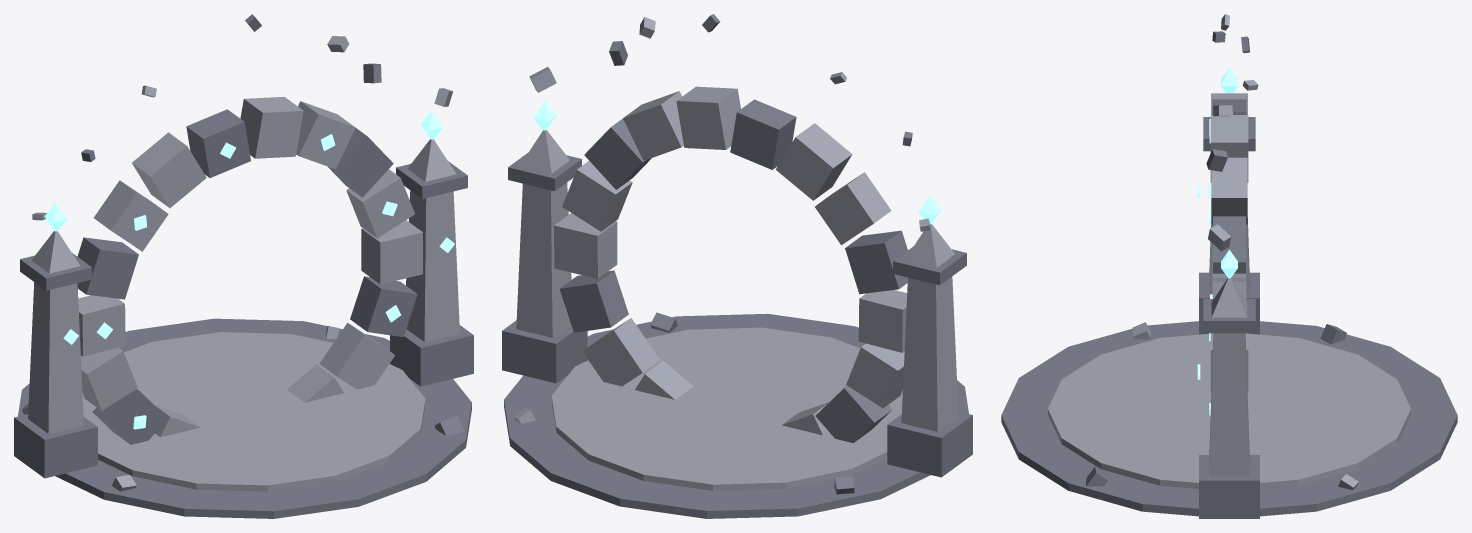
The model's file is portal_gate.glb.
3 views of the same model, side by side, from view 1: azimuth 30°, elevation 25°; view 2: azimuth 150°, elevation 25°; view 3: azimuth 270°, elevation 25° (orthographic). The views are drawn at different scales.
Parts seen in each view (by area): view 1: DaisInner, DaisOuter, ShaftL, ShaftR, PlinthL, PlinthR, Ring_7, Ring_9, Ring_3, Ring_8, Ring_1, Ring_11 (+14 smaller); view 2: DaisInner, DaisOuter, ShaftL, ShaftR, PlinthL, PlinthR, Ring_7, Ring_9, Ring_3, Ring_8, Ring_2, Ring_1 (+14 smaller); view 3: DaisInner, DaisOuter, ShaftR, PlinthR, Ring_6, Ring_7, Ring_5, CapR, TipR, PlinthL, CapL.
Part boxes in pixels (<box>): DaisInner: <box>82,332,425,491</box>; DaisOuter: <box>18,318,471,518</box>; ShaftL: <box>28,282,83,433</box>; ShaftR: <box>406,190,459,342</box>; PlinthL: <box>14,414,97,478</box>; PlinthR: <box>390,325,473,386</box>; Ring_7: <box>240,96,303,158</box>; Ring_9: <box>132,132,206,207</box>; Ring_3: <box>361,220,422,284</box>; Ring_8: <box>186,109,250,177</box>; Ring_1: <box>319,322,395,389</box>; Ring_11: <box>77,237,138,299</box>; DaisInner: <box>551,327,902,490</box>; DaisOuter: <box>504,313,968,518</box>; ShaftL: <box>901,276,958,431</box>; ShaftR: <box>516,182,571,337</box>; PlinthL: <box>887,411,972,477</box>; PlinthR: <box>502,320,587,383</box>; Ring_7: <box>676,86,740,149</box>; Ring_9: <box>775,123,852,200</box>; Ring_3: <box>554,213,617,278</box>; Ring_8: <box>730,99,796,169</box>; Ring_2: <box>559,270,628,332</box>; Ring_1: <box>582,318,659,386</box>; DaisInner: <box>1048,333,1410,488</box>; DaisOuter: <box>1001,321,1457,516</box>; ShaftR: <box>1209,333,1249,476</box>; PlinthR: <box>1199,455,1259,518</box>; Ring_6: <box>1211,157,1247,224</box>; Ring_7: <box>1210,115,1248,182</box>; Ring_5: <box>1213,216,1245,273</box>; CapR: <box>1203,299,1255,333</box>; TipR: <box>1211,278,1247,317</box>; PlinthL: <box>1199,272,1259,334</box>; CapL: <box>1203,117,1255,151</box>.
Bounding box in the file's own units: 5.82 × 5.53 × 5.4.
